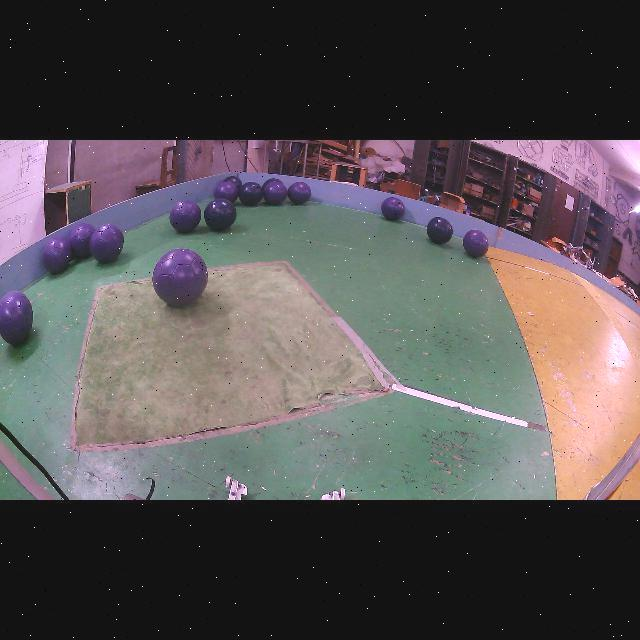B: (204, 199, 236, 231), (426, 218, 452, 244), (239, 181, 262, 206), (222, 176, 242, 189), (262, 178, 281, 189)
P: (152, 249, 208, 306), (0, 290, 32, 345), (89, 224, 124, 264), (42, 236, 71, 274), (170, 200, 201, 232), (69, 222, 95, 259), (462, 230, 489, 258), (264, 181, 288, 205), (288, 181, 311, 205), (381, 198, 405, 221), (214, 181, 239, 202)
